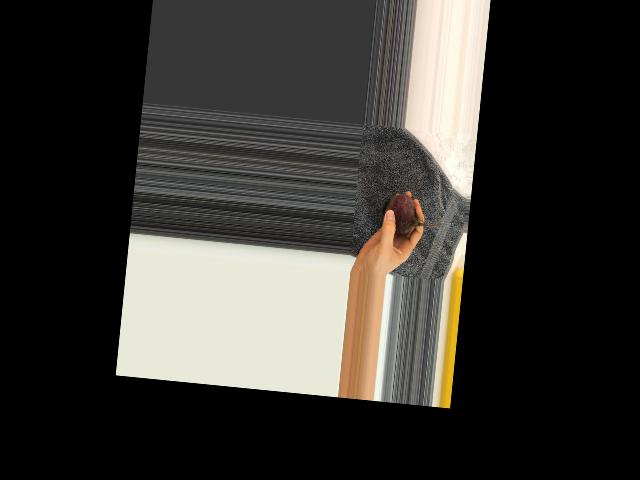beet: (379, 191, 444, 238)
